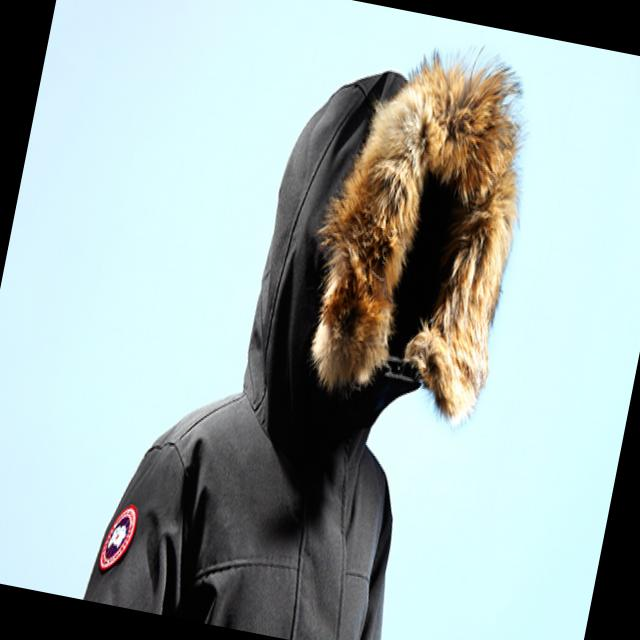Jacket: (63, 6, 557, 640)
